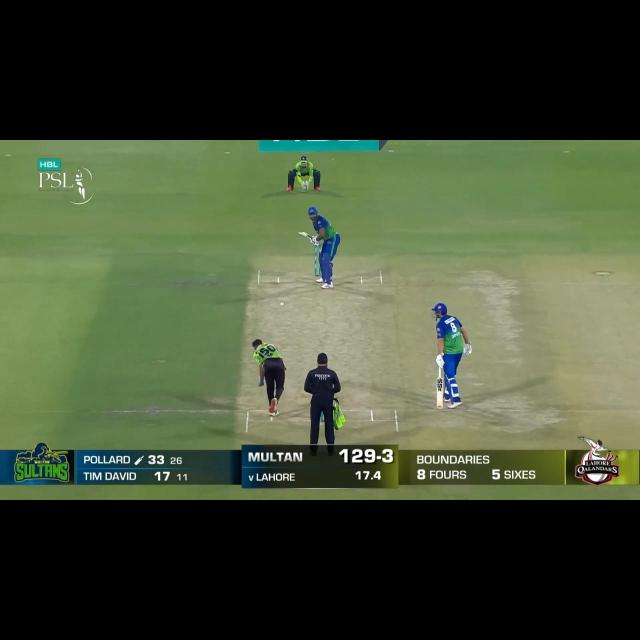bat: (435, 377, 444, 411), (297, 229, 314, 240)
toe: (297, 229, 306, 238), (436, 400, 444, 410)
